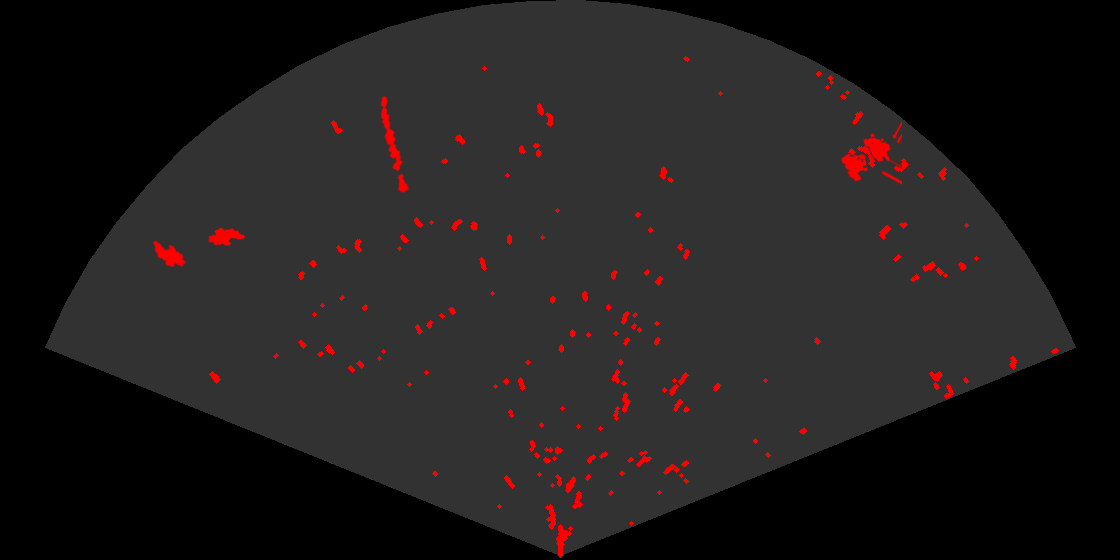AUV: (151, 239, 187, 269), (206, 226, 247, 247)
cage: (840, 119, 902, 186)
chain: (379, 93, 411, 197)
